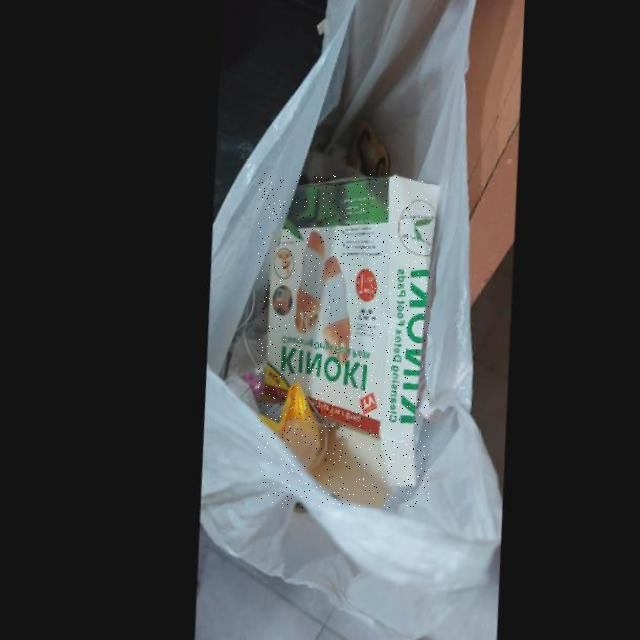paper: (257, 173, 430, 508)
